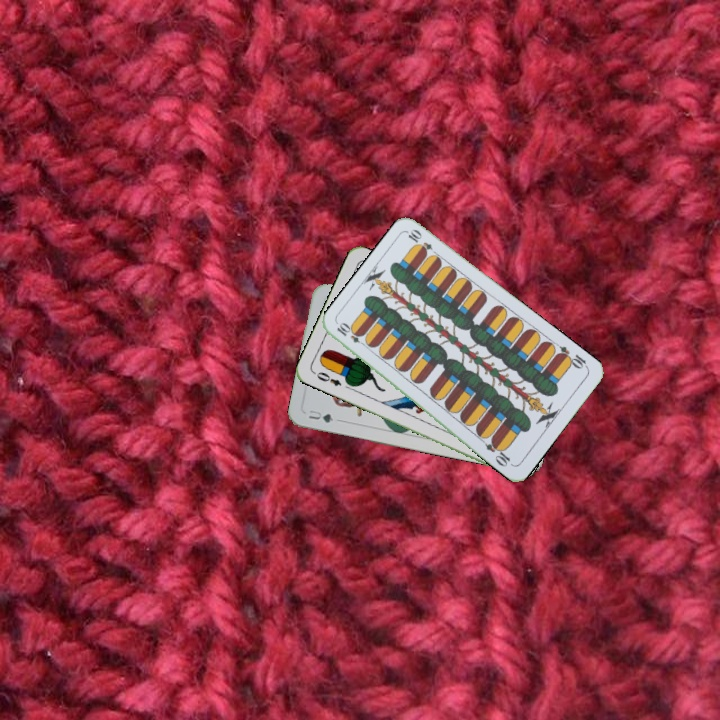E10: (552, 342, 591, 372), (333, 319, 370, 350)
EO: (313, 368, 344, 389)
GU: (305, 406, 336, 425)
